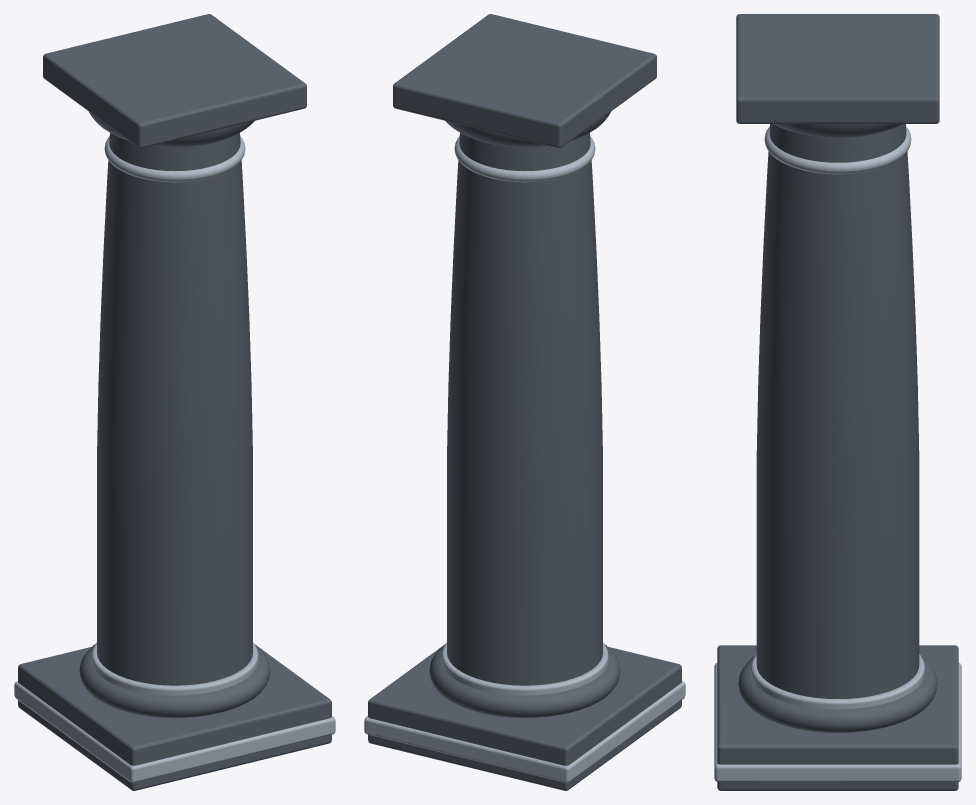
File: column-tuscan.glb
3 renders of one model, left to right at view 1: azimuth 30°, elevation 25°; view 2: azimuth 150°, elevation 25°; view 3: azimuth 270°, elevation 25°, orthographic. The views are drawn at different scales.
Visible parts, largest first — view 1: column-tuscan-shaft, column-tuscan-abacus, column-tuscan-plinth, column-tuscan-foot, column-tuscan-torus, column-tuscan-steel, column-tuscan-echinus; view 2: column-tuscan-shaft, column-tuscan-abacus, column-tuscan-plinth, column-tuscan-foot, column-tuscan-torus, column-tuscan-steel, column-tuscan-echinus; view 3: column-tuscan-shaft, column-tuscan-abacus, column-tuscan-plinth, column-tuscan-torus, column-tuscan-foot, column-tuscan-steel, column-tuscan-echinus.
Part boxes in pixels (<box>): column-tuscan-shaft: <box>97,133,252,685</box>; column-tuscan-abacus: <box>43,14,306,148</box>; column-tuscan-plinth: <box>18,646,331,790</box>; column-tuscan-foot: <box>14,681,335,782</box>; column-tuscan-torus: <box>79,644,270,718</box>; column-tuscan-steel: <box>91,136,258,695</box>; column-tuscan-echinus: <box>89,112,254,147</box>; column-tuscan-shaft: <box>447,133,602,685</box>; column-tuscan-abacus: <box>393,14,656,148</box>; column-tuscan-plinth: <box>368,646,681,790</box>; column-tuscan-foot: <box>364,681,685,782</box>; column-tuscan-torus: <box>429,644,620,718</box>; column-tuscan-steel: <box>441,136,608,695</box>; column-tuscan-echinus: <box>445,112,610,147</box>; column-tuscan-shaft: <box>756,124,919,698</box>; column-tuscan-abacus: <box>736,14,939,123</box>; column-tuscan-plinth: <box>717,645,958,790</box>; column-tuscan-torus: <box>738,656,937,732</box>; column-tuscan-foot: <box>714,663,961,781</box>; column-tuscan-steel: <box>750,126,925,709</box>; column-tuscan-echinus: <box>773,124,902,137</box>.
Size of the model in its own units: 3.4 by 10.4 by 3.4.
